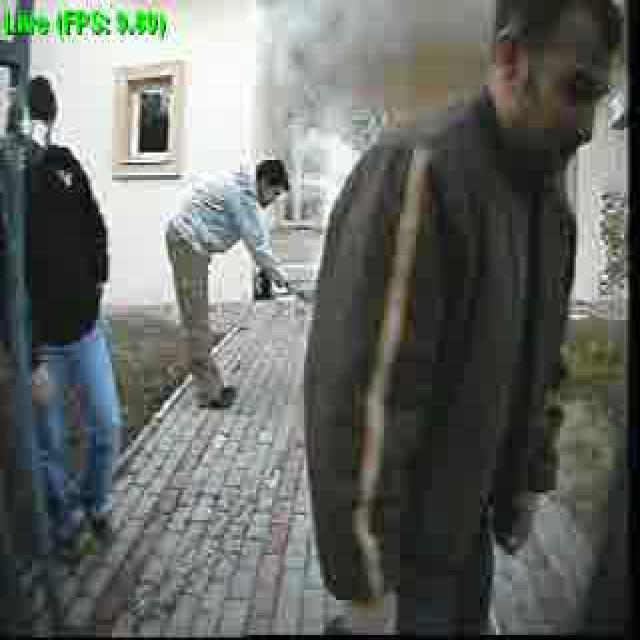Smoke: (274, 0, 404, 105)
